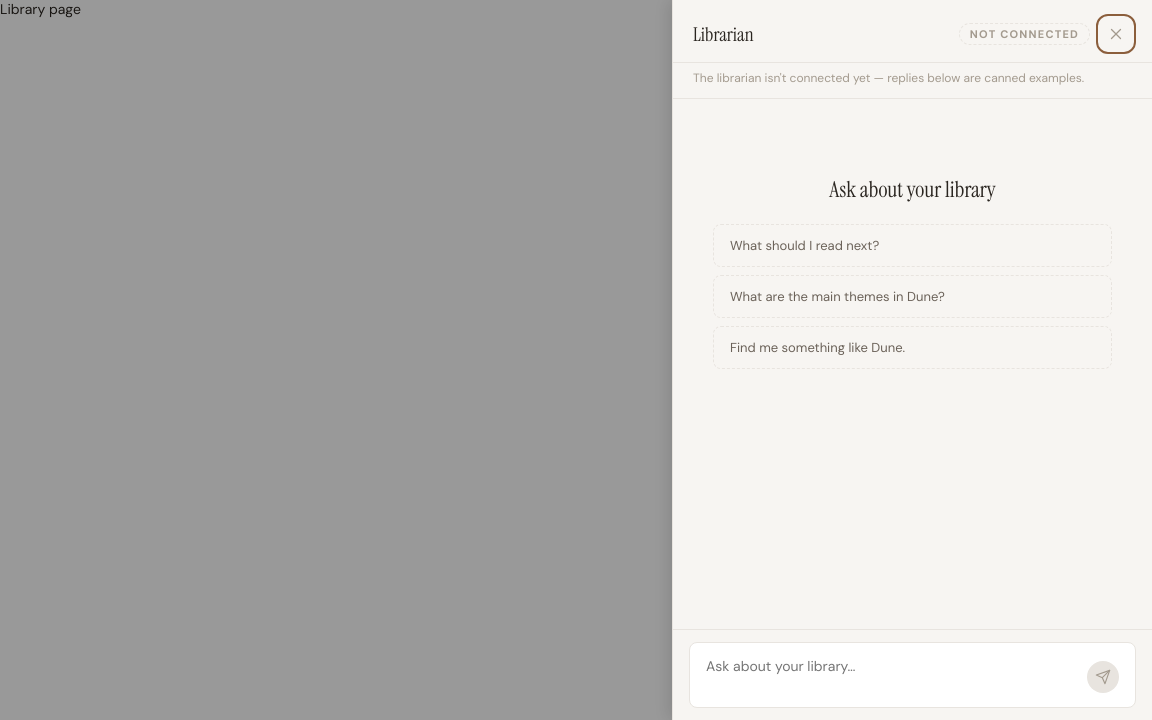
it: LibrarianPanel › clicking a suggestion sends it and renders the streamed reply
Click the button "What should I read next?": point(805, 246) [713,224,1112,267]
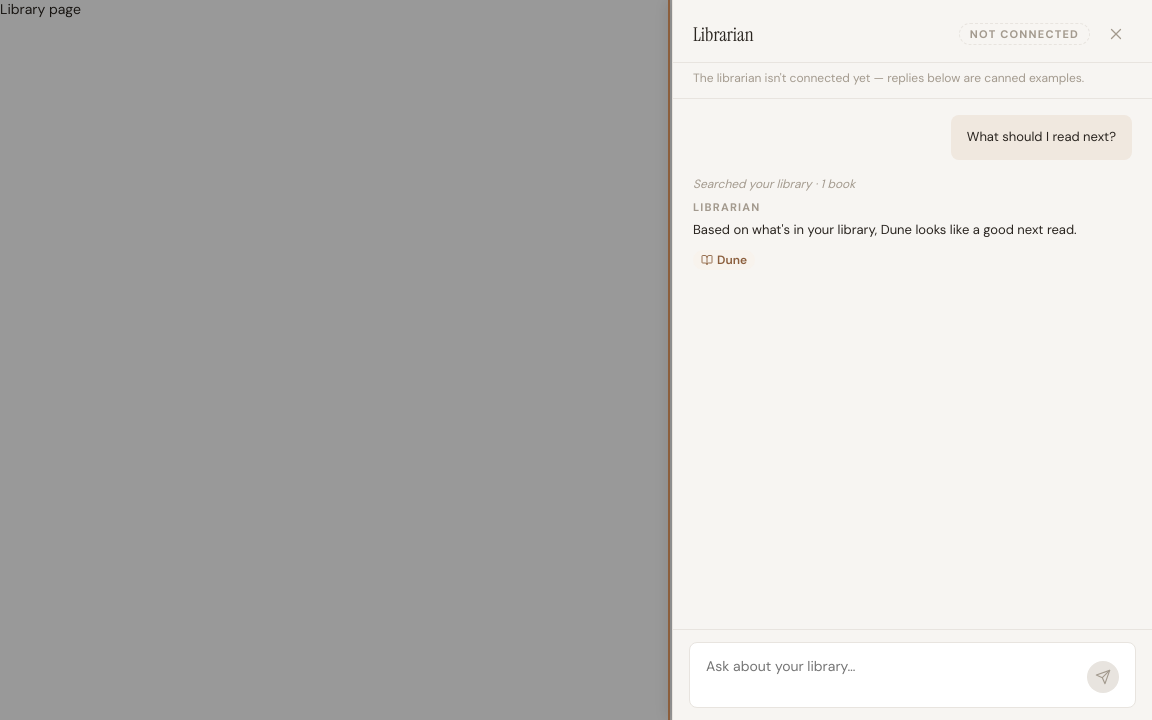
expect the text "What should I read next?" is shown: met, box [951,115,1132,160]
expect the text "Dune looks like a good next read" is shown: met, box [693,221,1077,238]
